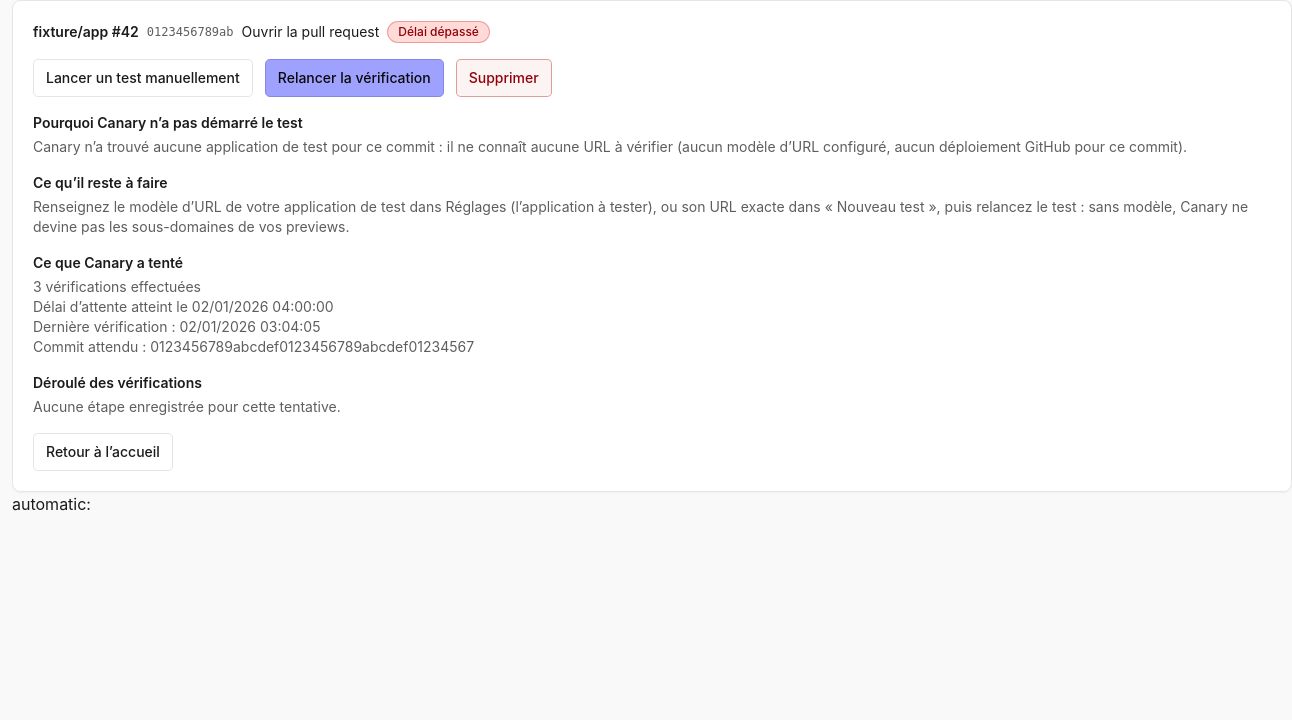
Test case: AutomaticDetailView › re-arms the attempt and shows it waiting again with the step that did it
Click the button with id "automaticDetailRetry".
click(354, 78)  # box top-left (265, 59), bottom-right (444, 97)
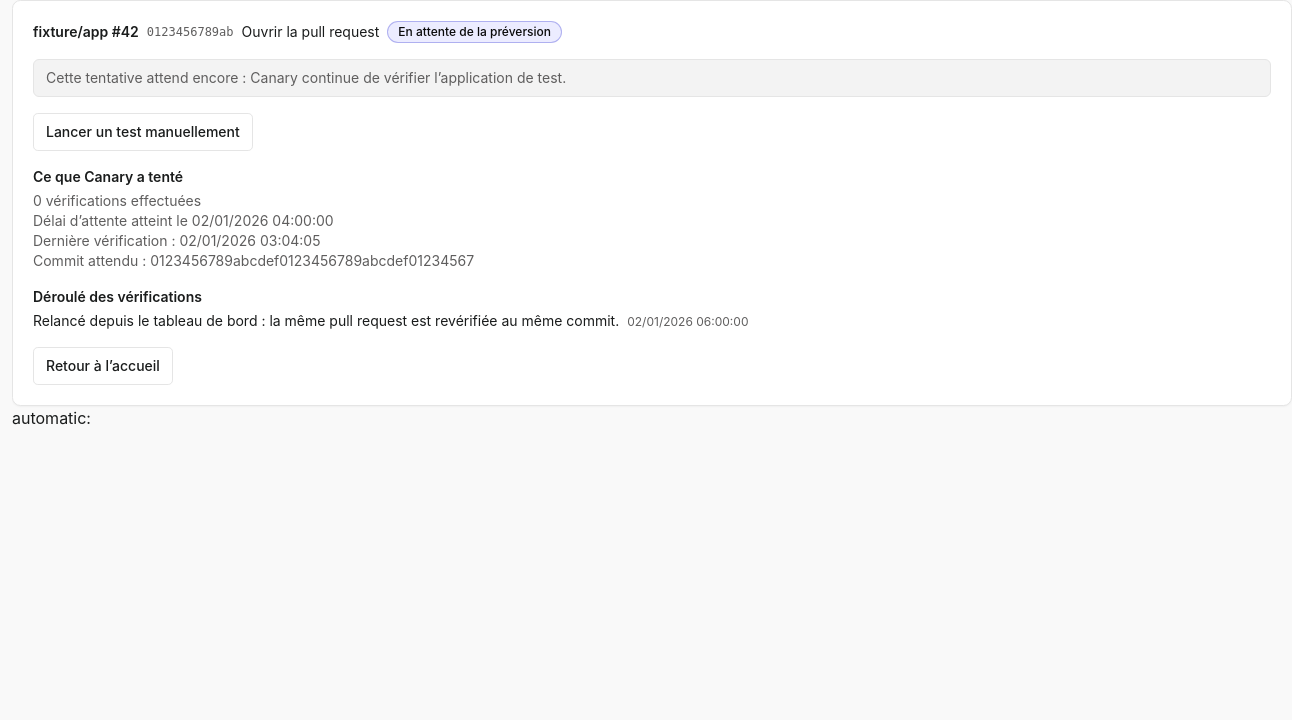
Check: the text with id "automaticDetailWaiting" shows "Cette tentative attend encore : Canary continue de vérifier l’application de test.", box top-left (46, 69), bottom-right (566, 86)
Check: the button with id "automaticDetailRetry" is gone
Check: the element with id "automaticDetailFacts" shows "0 vérifications effectuées", box top-left (33, 192), bottom-right (201, 209)
